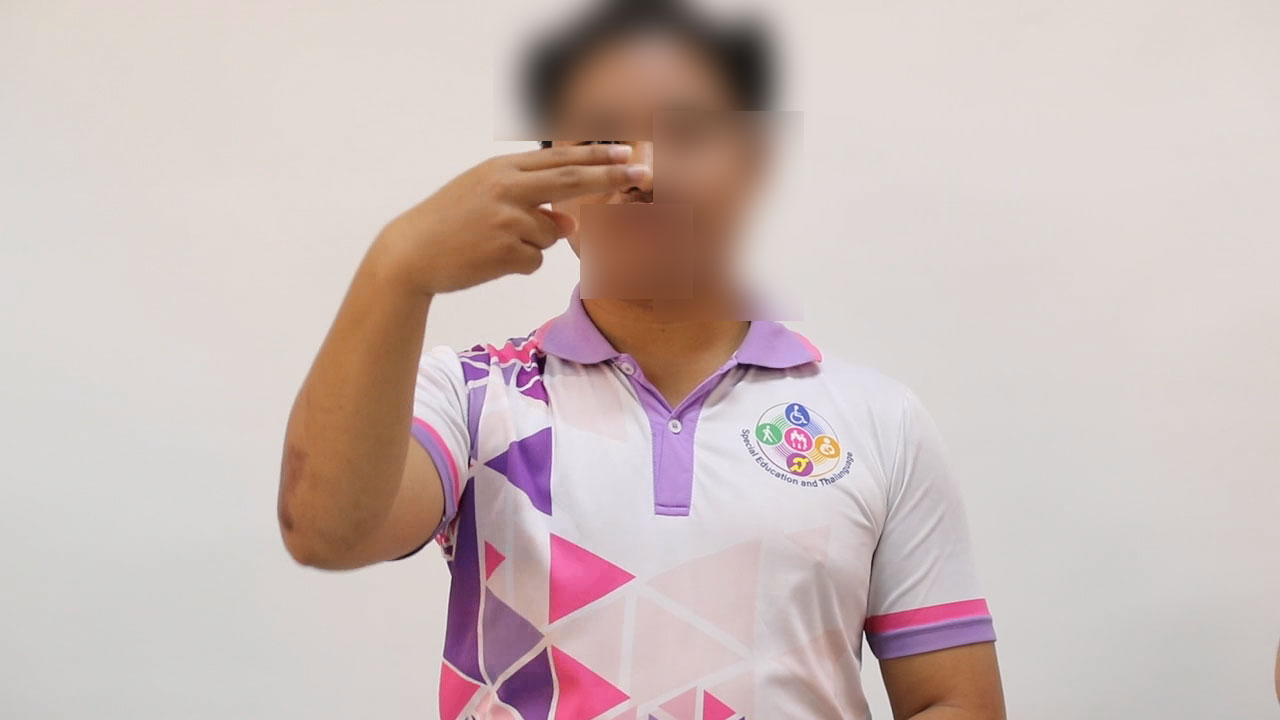hor: (359, 129, 659, 304)
